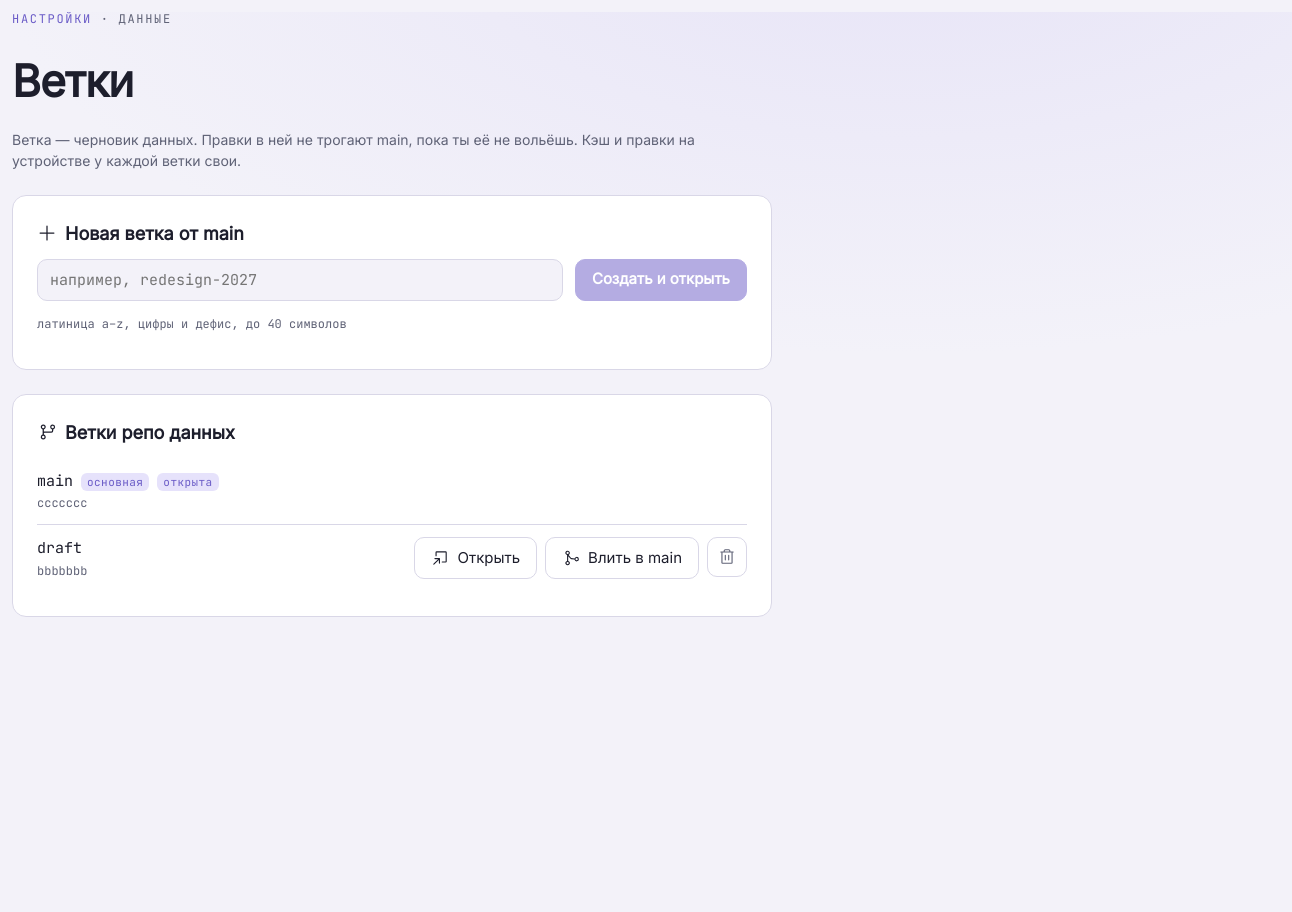
Test: экран «Ветки»: «Влить в main» › влито, но итог не проходит проверку — предупреждение со списком файлов
The width and height of the screenshot is (1292, 912).
Click the button "Влить в main". click: (622, 558)
box: [545,537,699,579]
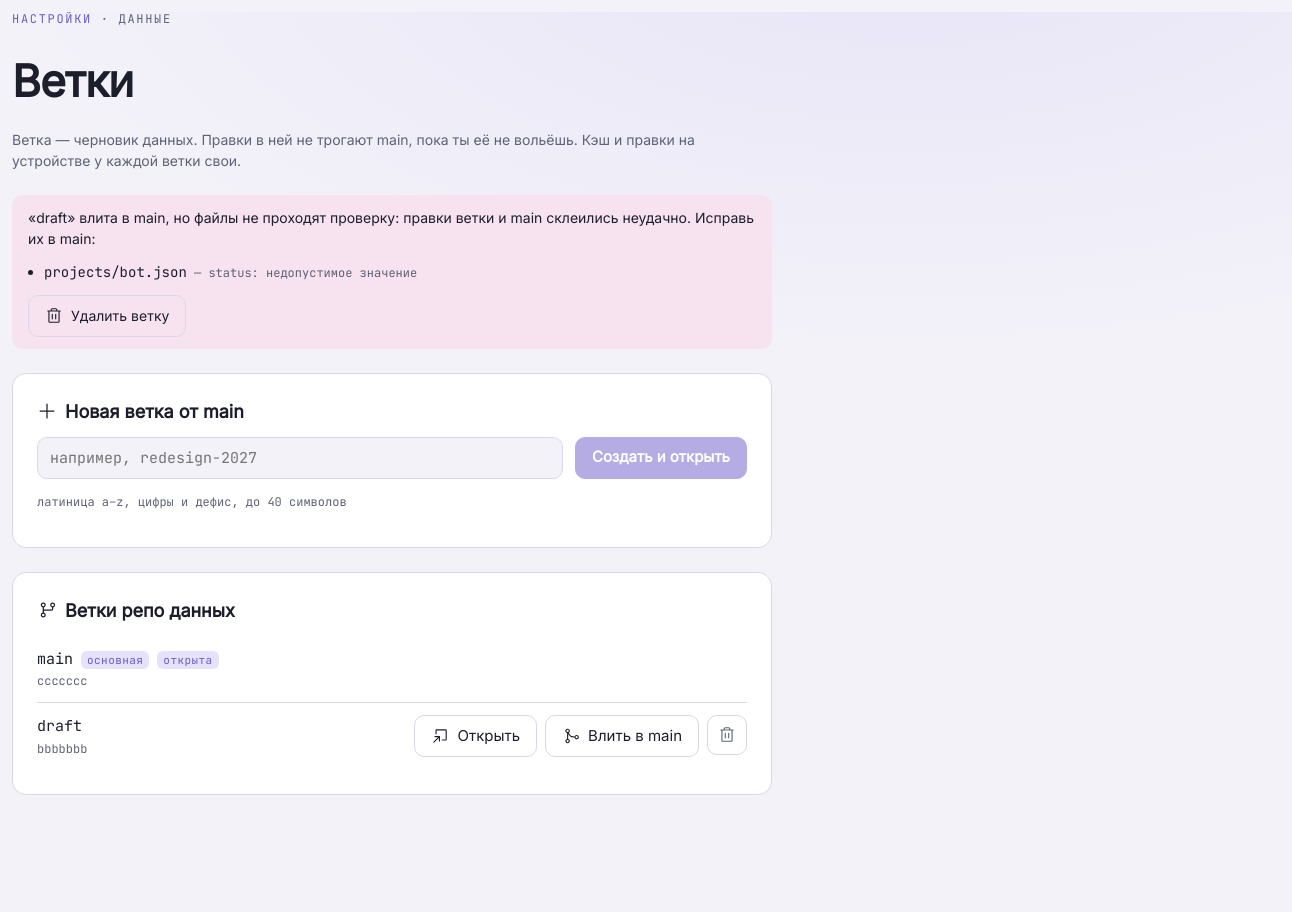
Result: the message shows "влита в main, но файлы не проходят проверку" at [28,209,754,247]
Result: the message shows "projects/bot.json" at [44,263,187,281]
Result: the message shows "status: недопустимое значение" at [208,265,417,281]
